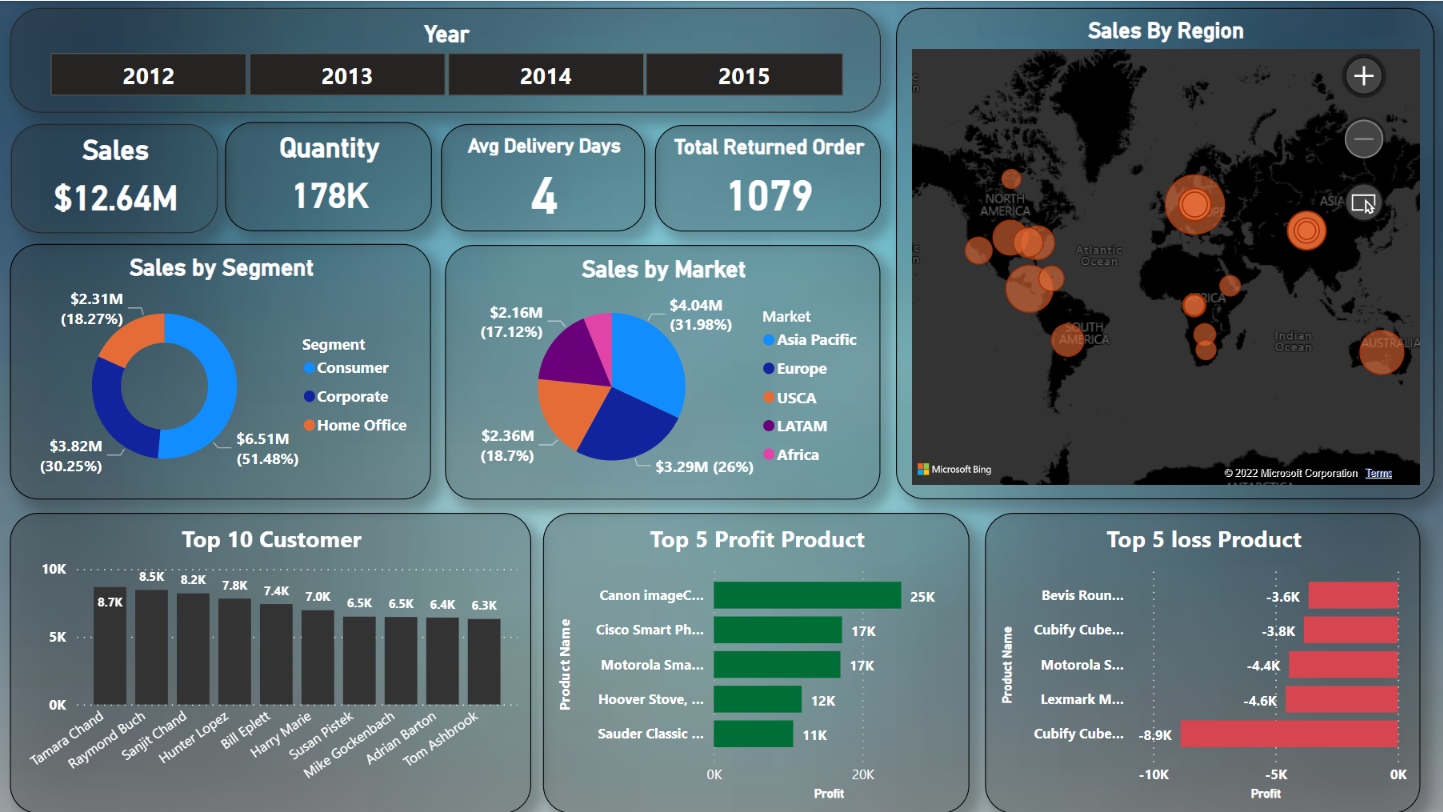

What the dashboard file says about the page in this screenshot:
{"tool":"powerbi","page":{"name":"Sales_Report","canvas":[1280,720],"ordinal":0},"visuals":[{"type":"card","title":"Sales","fields":{"Values":["Orders.Sales"]},"box":[9.6,108.5,183.3,96.5],"z":0},{"type":"card","title":"Quantity","fields":{"Values":["Orders.Quantity"]},"box":[199,107.3,183.3,96.5],"z":1000},{"type":"card","title":"Avg Delivery Days","fields":{"Values":["Orders.Delivery Days"]},"box":[390.8,108.5,180.9,95.3],"z":2000},{"type":"slicer","title":"Year","fields":{"Values":["Orders.Year"]},"box":[8.9,6.2,771.4,93],"z":3000},{"type":"card","title":"Total Returned Order","fields":{"Values":["Returns.Return Orders"]},"box":[580.1,109.7,200.2,94.1],"z":4000},{"type":"map","title":"Sales By Region","fields":{"Size":["Orders.Sales"],"Category":["Orders.Region"]},"box":[793.5,6.2,476.5,434.8],"z":5000},{"type":"clusteredBarChart","title":"Top 5 Profit Product","fields":{"Category":["Orders.Product Name"],"Y":["Orders.Profit"]},"box":[481.2,453.5,377.5,266.5],"z":6000},{"type":"clusteredBarChart","title":"Top 5 loss Product","fields":{"Category":["Orders.Product Name"],"Y":["Orders.Profit"]},"box":[872,453.5,385.9,266.5],"z":7000},{"type":"donutChart","title":"Sales by Segment","fields":{"Category":["Orders.Segment"],"Y":["Orders.Sales"]},"box":[9.2,215,372.8,226.1],"z":8000},{"type":"pieChart","title":"Sales by Market","fields":{"Category":["Orders.Market"],"Y":["Orders.Sales"]},"box":[394.4,215.9,385.9,225.5],"z":9000},{"type":"columnChart","title":"Top 10 Customer ","fields":{"Category":["Orders.Customer Name"],"Y":["Orders.Profit"]},"box":[9.2,453.1,461.4,266.7],"z":10000}]}

Visuals, with their boxes in screenshot pixels (x1, y1, x2, y2), scaled from the page's 1280x720 canvas onto the 1443x812 screenshot:
"Sales" card: select_region(11, 122, 217, 231)
"Quantity" card: select_region(224, 121, 431, 230)
"Avg Delivery Days" card: select_region(441, 122, 645, 230)
"Year" slicer: select_region(10, 7, 880, 112)
"Total Returned Order" card: select_region(654, 124, 880, 230)
"Sales By Region" map: select_region(895, 7, 1432, 497)
"Top 5 Profit Product" clusteredBarChart: select_region(542, 511, 968, 811)
"Top 5 loss Product" clusteredBarChart: select_region(983, 511, 1418, 811)
"Sales by Segment" donutChart: select_region(10, 242, 431, 497)
"Sales by Market" pieChart: select_region(445, 243, 880, 498)
"Top 10 Customer " columnChart: select_region(10, 511, 531, 811)
